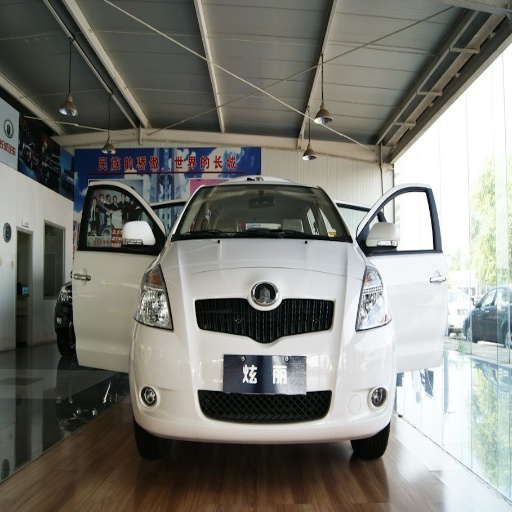front_bumper: (135, 269, 392, 442)
front_left_light: (354, 270, 390, 331)
front_right_door: (100, 186, 158, 254)
front_right_light: (136, 270, 174, 331)
hood: (172, 239, 365, 281)
